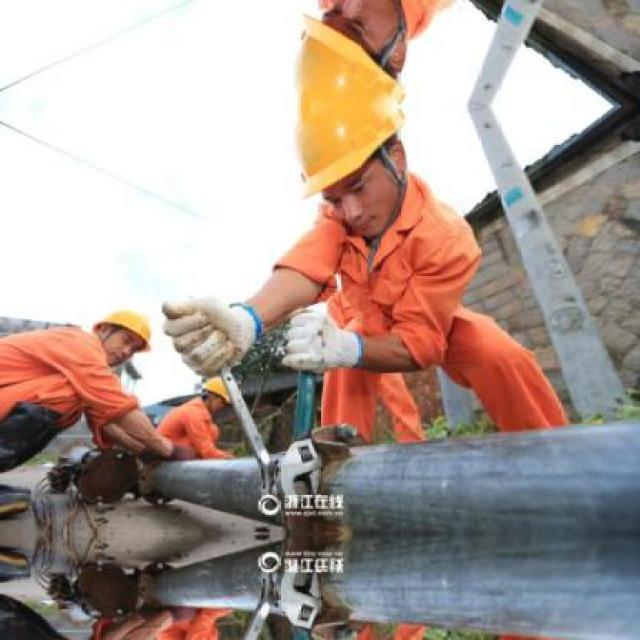helmet: (268, 105, 430, 248), (268, 0, 432, 108), (85, 302, 158, 363), (198, 374, 236, 414)
